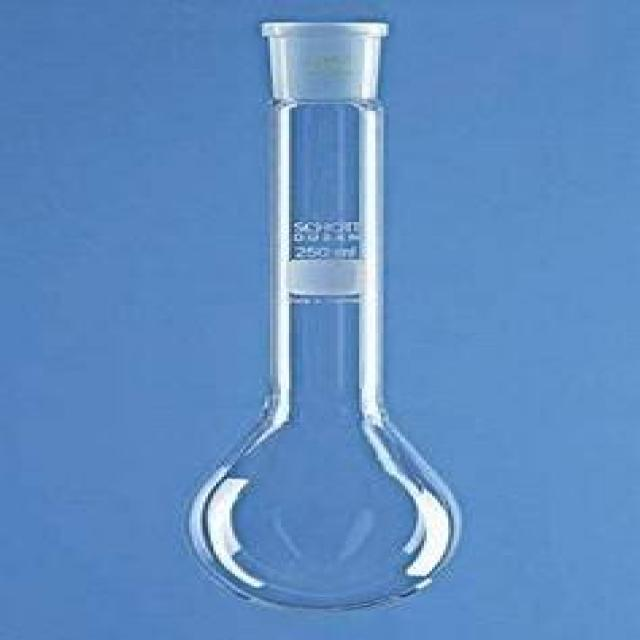Volumetric flask: (186, 11, 468, 608)
